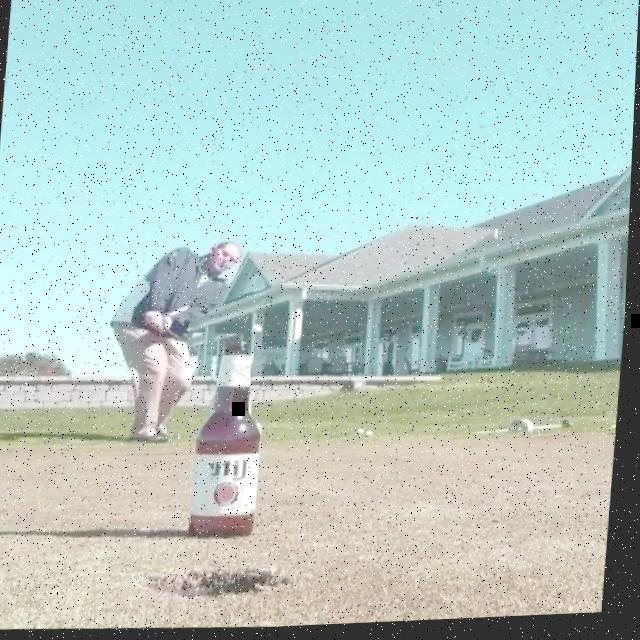GolfBall: (370, 433, 377, 441), (360, 431, 368, 438)
